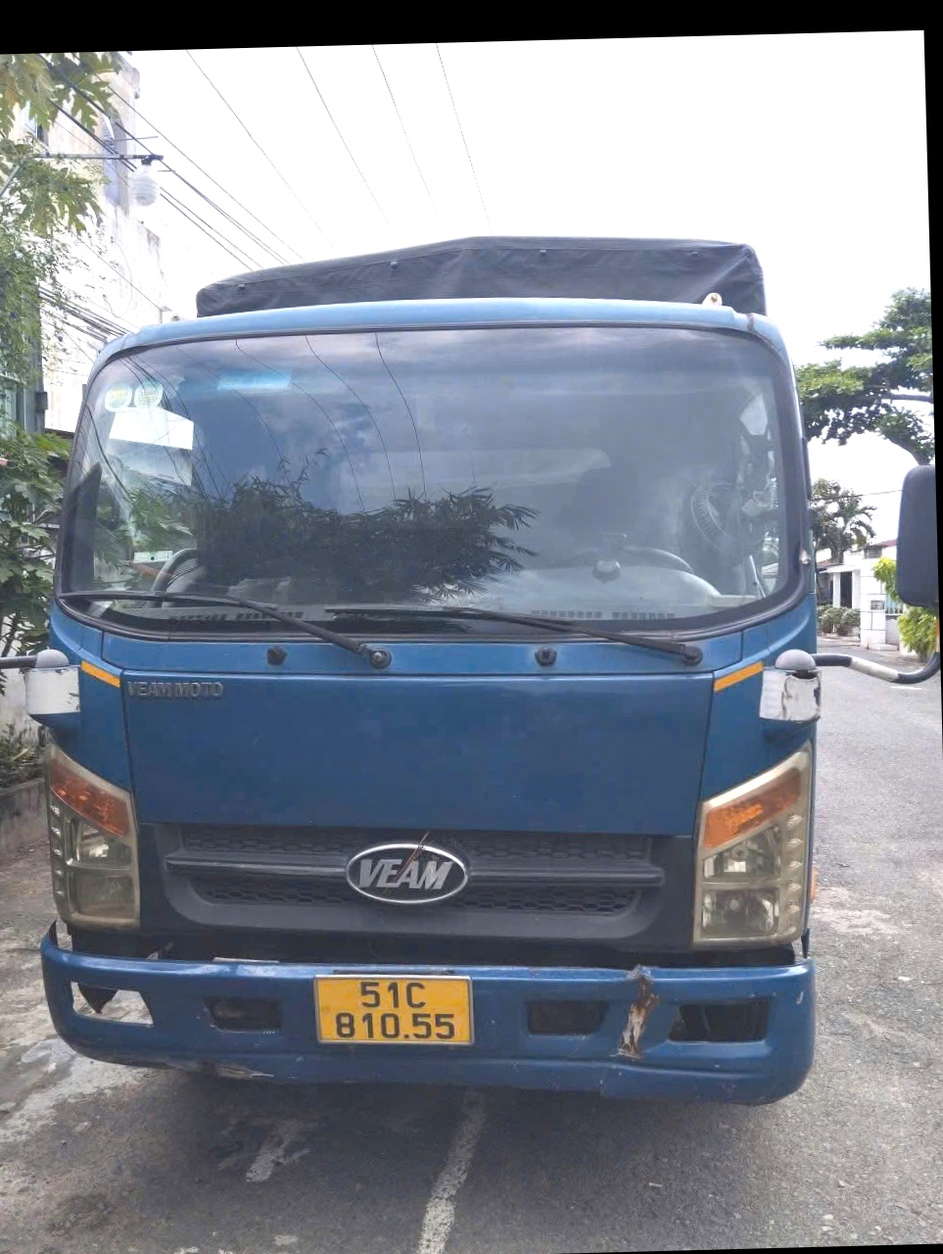Bien-so: (330, 968, 496, 1052)
